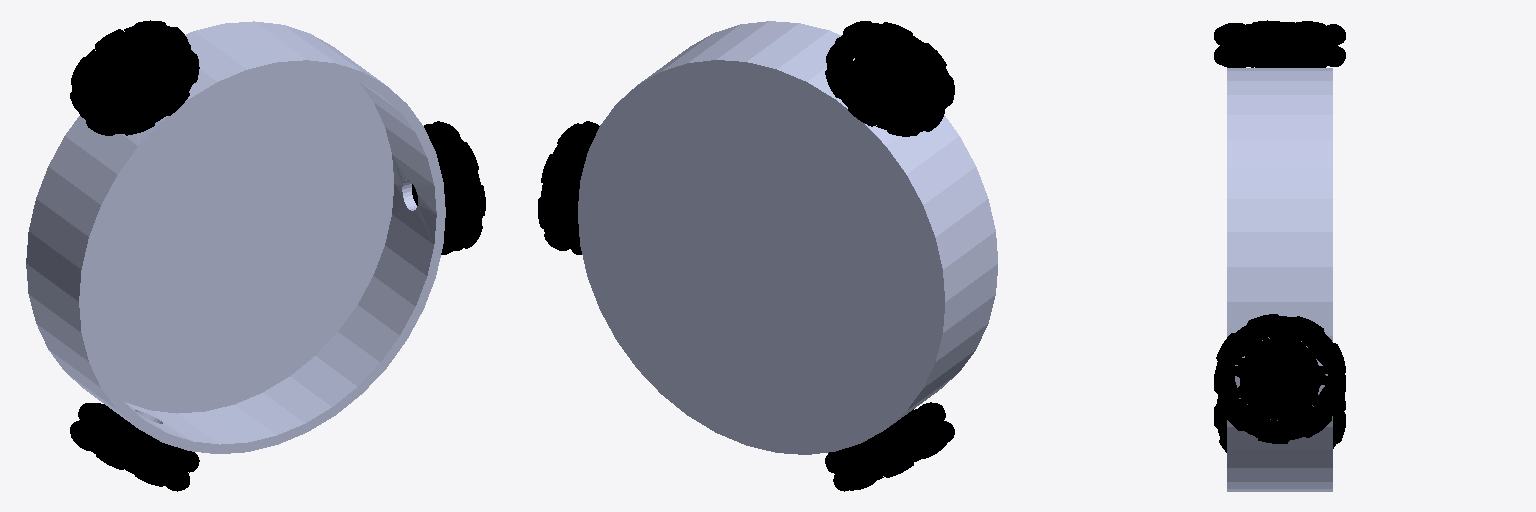
--- What the picture shows (computed from the rendered views, not written in the file) ---
The picture shows the robot from 3 angles, left to right: view 1: azimuth 30°, elevation 25°; view 2: azimuth 150°, elevation 25°; view 3: azimuth 270°, elevation 25°; orthographic projection.
Robot: robot_mobile — 52 links, 51 joints (51 continuous); root link base_link; default pose: every joint at zero.
Visible links, largest first — view 1: base_link, Roue3, Roue1, Roue2, roue3_roulette10, roue2_roulette2, roulette8, roulette16, roue2_roulette9, roue2_roulette10, roulette9, roue3_roulette11 (+6 smaller); view 2: base_link, Roue3, Roue1, Roue2, roulette14, roue2_roulette5, roue3_roulette13, roue2_roulette12, roue3_roulette14, roulette6, roulette5, roue3_roulette5 (+3 smaller); view 3: base_link, Roue2, Roue3, roue2_roulette15, roue2_roulette11, roue3_roulette16, roue3_roulette7, roue2_roulette10, roue2_roulette14, roue2_roulette12, roue2_roulette16, roue2_roulette9 (+3 smaller).
Boxes of the visible links, x1=… form: base_link: x1=26, y1=21, x2=445, y2=453; Roue3: x1=72, y1=25, x2=193, y2=133; Roue1: x1=74, y1=405, x2=194, y2=486; Roue2: x1=412, y1=125, x2=482, y2=248; roue3_roulette10: x1=131, y1=84, x2=165, y2=114; roue2_roulette2: x1=442, y1=166, x2=466, y2=201; roulette8: x1=123, y1=433, x2=158, y2=461; roulette16: x1=95, y1=441, x2=130, y2=469; roue2_roulette9: x1=465, y1=184, x2=485, y2=218; roue2_roulette10: x1=451, y1=142, x2=478, y2=176; roulette9: x1=134, y1=460, x2=168, y2=486; roue3_roulette11: x1=92, y1=102, x2=125, y2=122; base_link: x1=578, y1=21, x2=997, y2=454; Roue3: x1=827, y1=23, x2=949, y2=131; Roue1: x1=839, y1=409, x2=950, y2=488; Roue2: x1=541, y1=124, x2=595, y2=251; roulette14: x1=879, y1=449, x2=913, y2=477; roue2_roulette5: x1=555, y1=179, x2=577, y2=213; roue3_roulette13: x1=875, y1=94, x2=910, y2=120; roue2_roulette12: x1=541, y1=153, x2=566, y2=188; roue3_roulette14: x1=841, y1=67, x2=873, y2=100; roulette6: x1=890, y1=421, x2=923, y2=450; roulette5: x1=851, y1=441, x2=885, y2=467; roue3_roulette5: x1=848, y1=97, x2=881, y2=126; base_link: x1=1227, y1=68, x2=1332, y2=491; Roue2: x1=1218, y1=316, x2=1342, y2=439; Roue3: x1=1217, y1=22, x2=1342, y2=67; roue2_roulette15: x1=1256, y1=422, x2=1290, y2=443; roue2_roulette11: x1=1269, y1=322, x2=1303, y2=343; roue3_roulette16: x1=1250, y1=20, x2=1283, y2=41; roue3_roulette7: x1=1273, y1=41, x2=1306, y2=61; roue2_roulette10: x1=1228, y1=328, x2=1262, y2=358; roue2_roulette14: x1=1297, y1=407, x2=1331, y2=437; roue2_roulette12: x1=1307, y1=335, x2=1339, y2=367; roue2_roulette16: x1=1220, y1=398, x2=1252, y2=430; roue2_roulette9: x1=1214, y1=360, x2=1234, y2=394.
Size in the robot's own frame: 0.4426 by 0.1252 by 0.4715 metres.
52 mesh visuals loaded from 52 distinct referenced files (52 binary STL).

robot.urdf — robot_mobile:
<robot
  name="robot_mobile">
  <link
    name="base_link">
    <inertial>
      <origin
        xyz="-0.010055660308745 -0.0423870086324682 0.000121637856789193"
        rpy="0 0 0" />
      <mass
        value="3.47223567331962" />
      <inertia
        ixx="0.0457310176438819"
        ixy="1.86110118436277E-09"
        ixz="-1.71400748941766E-08"
        iyy="0.0867543372140893"
        iyz="1.24646135762742E-09"
        izz="0.0457310260272979" />
    </inertial>
    <visual>
      <origin
        xyz="0 0 0"
        rpy="0 0 0" />
      <geometry>
        <mesh
          filename="package://robot_mobile/meshes/base_link.STL" />
      </geometry>
      <material
        name="">
        <color
          rgba="0.792156862745098 0.819607843137255 0.933333333333333 1" />
      </material>
    </visual>
    <collision>
      <origin
        xyz="0 0 0"
        rpy="0 0 0" />
      <geometry>
        <mesh
          filename="package://robot_mobile/meshes/base_link.STL" />
      </geometry>
    </collision>
  </link>
  <link
    name="Roue1">
    <inertial>
      <origin
        xyz="-0.0211588380723036 -2.31343286816177E-06 9.24421394769837E-06"
        rpy="0 0 0" />
      <mass
        value="0.198356198512862" />
      <inertia
        ixx="0.00019991381116025"
        ixy="-1.5382727945235E-09"
        ixz="6.15222722511404E-09"
        iyy="0.000118333847746111"
        iyz="1.17428945784077E-08"
        izz="0.000118377952645097" />
    </inertial>
    <visual>
      <origin
        xyz="0 0 0"
        rpy="0 0 0" />
      <geometry>
        <mesh
          filename="package://robot_mobile/meshes/Roue1.STL" />
      </geometry>
      <material
        name="">
        <color
          rgba="0 0 0 1" />
      </material>
    </visual>
    <collision>
      <origin
        xyz="0 0 0"
        rpy="0 0 0" />
      <geometry>
        <mesh
          filename="package://robot_mobile/meshes/Roue1.STL" />
      </geometry>
    </collision>
  </link>
  <joint
    name="Joint_roue1"
    type="continuous">
    <origin
      xyz="-0.110055669635866 -0.0685169223077406 -0.17308341083394"
      rpy="1.5707963267949 -1.04719755119659 1.060540212046E-16" />
    <parent
      link="base_link" />
    <child
      link="Roue1" />
    <axis
      xyz="-1 0 0" />
  </joint>
  <link
    name="roulette1">
    <inertial>
      <origin
        xyz="-1.47206694750546E-10 -5.70271607713835E-12 1.70096714491308E-11"
        rpy="0 0 0" />
      <mass
        value="0.00837422821031397" />
      <inertia
        ixx="4.31411689246923E-07"
        ixy="5.89996911661104E-18"
        ixz="-1.75986513438699E-17"
        iyy="7.8023874637289E-07"
        iyz="-2.7266453793259E-18"
        izz="7.80238746365671E-07" />
    </inertial>
    <visual>
      <origin
        xyz="0 0 0"
        rpy="0 0 0" />
      <geometry>
        <mesh
          filename="package://robot_mobile/meshes/roulette1.STL" />
      </geometry>
      <material
        name="">
        <color
          rgba="0 0 0 1" />
      </material>
    </visual>
    <collision>
      <origin
        xyz="0 0 0"
        rpy="0 0 0" />
      <geometry>
        <mesh
          filename="package://robot_mobile/meshes/roulette1.STL" />
      </geometry>
    </collision>
  </link>
  <joint
    name="joint_roulette1"
    type="continuous">
    <origin
      xyz="-0.0118 -0.0127400040790379 0.0509534309000108"
      rpy="-0.139140116757764 0.245009073206653 -1.5707963267949" />
    <parent
      link="Roue1" />
    <child
      link="roulette1" />
    <axis
      xyz="-1 0 0" />
  </joint>
  <link
    name="roulette2">
    <inertial>
      <origin
        xyz="3.32048485929271E-10 1.07746866984115E-10 -1.76369953364119E-10"
        rpy="0 0 0" />
      <mass
        value="0.00837422821031395" />
      <inertia
        ixx="4.31411690438619E-07"
        ixy="2.51424697089265E-16"
        ixz="-4.11555614023201E-16"
        iyy="7.80238745994068E-07"
        iyz="-5.34184994250399E-16"
        izz="7.80238745446006E-07" />
    </inertial>
    <visual>
      <origin
        xyz="0 0 0"
        rpy="0 0 0" />
      <geometry>
        <mesh
          filename="package://robot_mobile/meshes/roulette2.STL" />
      </geometry>
      <material
        name="">
        <color
          rgba="0 0 0 1" />
      </material>
    </visual>
    <collision>
      <origin
        xyz="0 0 0"
        rpy="0 0 0" />
      <geometry>
        <mesh
          filename="package://robot_mobile/meshes/roulette2.STL" />
      </geometry>
    </collision>
  </link>
  <joint
    name="joint_roulette2"
    type="continuous">
    <origin
      xyz="-0.0118 -0.0450380597907498 0.0270209732374857"
      rpy="-0.459706120462856 1.03040723660411 -1.5707963267949" />
    <parent
      link="Roue1" />
    <child
      link="roulette2" />
    <axis
      xyz="-1 0 0" />
  </joint>
  <link
    name="roulette3">
    <inertial>
      <origin
        xyz="-1.37564876157015E-10 1.59586566184089E-10 -2.2592082371542E-10"
        rpy="0 0 0" />
      <mass
        value="0.00837422821031399" />
      <inertia
        ixx="4.31411691388528E-07"
        ixy="-1.5427816411387E-16"
        ixz="2.18407008698158E-16"
        iyy="7.80238747838095E-07"
        iyz="-1.01347958834279E-15"
        izz="7.80238747119254E-07" />
    </inertial>
    <visual>
      <origin
        xyz="0 0 0"
        rpy="0 0 0" />
      <geometry>
        <mesh
          filename="package://robot_mobile/meshes/roulette3.STL" />
      </geometry>
      <material
        name="">
        <color
          rgba="0 0 0 1" />
      </material>
    </visual>
    <collision>
      <origin
        xyz="0 0 0"
        rpy="0 0 0" />
      <geometry>
        <mesh
          filename="package://robot_mobile/meshes/roulette3.STL" />
      </geometry>
    </collision>
  </link>
  <joint
    name="joint_roulette3"
    type="continuous">
    <origin
      xyz="-0.0118 -0.0509534309000107 -0.0127400040790381"
      rpy="2.63102228985091 1.32578725358823 1.5707963267949" />
    <parent
      link="Roue1" />
    <child
      link="roulette3" />
    <axis
      xyz="-1 0 0" />
  </joint>
  <link
    name="roulette4">
    <inertial>
      <origin
        xyz="1.11800346758173E-10 -3.78778952647707E-11 -3.30497990086442E-11"
        rpy="0 0 0" />
      <mass
        value="0.00837422821031395" />
      <inertia
        ixx="4.31411689308909E-07"
        ixy="-2.97596324077754E-17"
        ixz="-2.59665361519094E-17"
        iyy="7.80238746524351E-07"
        iyz="3.51898646796717E-17"
        izz="7.80238746533977E-07" />
    </inertial>
    <visual>
      <origin
        xyz="0 0 0"
        rpy="0 0 0" />
      <geometry>
        <mesh
          filename="package://robot_mobile/meshes/roulette4.STL" />
      </geometry>
      <material
        name="">
        <color
          rgba="0 0 0 1" />
      </material>
    </visual>
    <collision>
      <origin
        xyz="0 0 0"
        rpy="0 0 0" />
      <geometry>
        <mesh
          filename="package://robot_mobile/meshes/roulette4.STL" />
      </geometry>
    </collision>
  </link>
  <joint
    name="joint_roulette4"
    type="continuous">
    <origin
      xyz="-0.0118 -0.0270209732374855 -0.0450380597907499"
      rpy="2.85286358035719 0.540389090190783 1.5707963267949" />
    <parent
      link="Roue1" />
    <child
      link="roulette4" />
    <axis
      xyz="-1 0 0" />
  </joint>
  <link
    name="roulette5">
    <inertial>
      <origin
        xyz="-3.75331536683898E-10 1.36487876556401E-10 -1.08739160037397E-10"
        rpy="0 0 0" />
      <mass
        value="0.00837422821031394" />
      <inertia
        ixx="4.31411690093916E-07"
        ixy="-3.60007156715981E-16"
        ixz="2.86815837973028E-16"
        iyy="7.80238745021713E-07"
        iyz="-4.17198282820013E-16"
        izz="7.80238745212995E-07" />
    </inertial>
    <visual>
      <origin
        xyz="0 0 0"
        rpy="0 0 0" />
      <geometry>
        <mesh
          filename="package://robot_mobile/meshes/roulette5.STL" />
      </geometry>
      <material
        name="">
        <color
          rgba="0 0 0 1" />
      </material>
    </visual>
    <collision>
      <origin
        xyz="0 0 0"
        rpy="0 0 0" />
      <geometry>
        <mesh
          filename="package://robot_mobile/meshes/roulette5.STL" />
      </geometry>
    </collision>
  </link>
  <joint
    name="joint_roulette5"
    type="continuous">
    <origin
      xyz="-0.0118 0.0127400040790376 -0.0509534309000109"
      rpy="-3.00245253683203 -0.245009073206653 1.5707963267949" />
    <parent
      link="Roue1" />
    <child
      link="roulette5" />
    <axis
      xyz="1 0 0" />
  </joint>
  <link
    name="roulette6">
    <inertial>
      <origin
        xyz="3.03796529599332E-10 -1.14578735388449E-10 -2.00423358465152E-10"
        rpy="0 0 0" />
      <mass
        value="0.00837422821031397" />
      <inertia
        ixx="4.31411690736083E-07"
        ixy="-2.44618059439138E-16"
        ixz="-4.278912929206E-16"
        iyy="7.80238746501321E-07"
        iyz="6.45528037649794E-16"
        izz="7.8023874574119E-07" />
    </inertial>
    <visual>
      <origin
        xyz="0 0 0"
        rpy="0 0 0" />
      <geometry>
        <mesh
          filename="package://robot_mobile/meshes/roulette6.STL" />
      </geometry>
      <material
        name="">
        <color
          rgba="0 0 0 1" />
      </material>
    </visual>
    <collision>
      <origin
        xyz="0 0 0"
        rpy="0 0 0" />
      <geometry>
        <mesh
          filename="package://robot_mobile/meshes/roulette6.STL" />
      </geometry>
    </collision>
  </link>
  <joint
    name="joint_roulette6"
    type="continuous">
    <origin
      xyz="-0.0118 0.0450380597907497 -0.027020973237486"
      rpy="-2.68188653312694 -1.0304072366041 1.5707963267949" />
    <parent
      link="Roue1" />
    <child
      link="roulette6" />
    <axis
      xyz="-1 0 0" />
  </joint>
  <link
    name="roulette7">
    <inertial>
      <origin
        xyz="-1.38960426498969E-10 -1.61623298078339E-10 -2.27978802502804E-10"
        rpy="0 0 0" />
      <mass
        value="0.00837422821031394" />
      <inertia
        ixx="4.31411691433173E-07"
        ixy="1.57832913239312E-16"
        ixz="2.22632326676418E-16"
        iyy="7.80238747858923E-07"
        iyz="1.03576425590708E-15"
        izz="7.80238747132215E-07" />
    </inertial>
    <visual>
      <origin
        xyz="0 0 0"
        rpy="0 0 0" />
      <geometry>
        <mesh
          filename="package://robot_mobile/meshes/roulette7.STL" />
      </geometry>
      <material
        name="">
        <color
          rgba="0 0 0 1" />
      </material>
    </visual>
    <collision>
      <origin
        xyz="0 0 0"
        rpy="0 0 0" />
      <geometry>
        <mesh
          filename="package://robot_mobile/meshes/roulette7.STL" />
      </geometry>
    </collision>
  </link>
  <joint
    name="joint_roulette7"
    type="continuous">
    <origin
      xyz="-0.0118 0.0509534309000109 0.0127400040790378"
      rpy="0.51057036373888 -1.32578725358824 -1.5707963267949" />
    <parent
      link="Roue1" />
    <child
      link="roulette7" />
    <axis
      xyz="-1 0 0" />
  </joint>
  <link
    name="roulette8">
    <inertial>
      <origin
        xyz="2.8647017397132E-10 1.69602110133837E-11 -3.61700669415654E-11"
        rpy="0 0 0" />
      <mass
        value="0.00837422821031397" />
      <inertia
        ixx="4.31411689282738E-07"
        ixy="3.41437061979187E-17"
        ixz="-7.28164578601368E-17"
        iyy="7.8023874555267E-07"
        iyz="-1.72441217333297E-17"
        izz="7.80238745523981E-07" />
    </inertial>
    <visual>
      <origin
        xyz="0 0 0"
        rpy="0 0 0" />
      <geometry>
        <mesh
          filename="package://robot_mobile/meshes/roulette8.STL" />
      </geometry>
      <material
        name="">
        <color
          rgba="0 0 0 1" />
      </material>
    </visual>
    <collision>
      <origin
        xyz="0 0 0"
        rpy="0 0 0" />
      <geometry>
        <mesh
          filename="package://robot_mobile/meshes/roulette8.STL" />
      </geometry>
    </collision>
  </link>
  <joint
    name="joint_roulette8"
    type="continuous">
    <origin
      xyz="-0.0118 0.0270209732374859 0.0450380597907497"
      rpy="0.288729073232605 -0.54038909019079 -1.5707963267949" />
    <parent
      link="Roue1" />
    <child
      link="roulette8" />
    <axis
      xyz="-1 0 0" />
  </joint>
  <link
    name="roulette9">
    <inertial>
      <origin
        xyz="-1.92264100473682E-10 4.72409888985226E-11 1.44477485530814E-11"
        rpy="0 0 0" />
      <mass
        value="0.00837422821031398" />
      <inertia
        ixx="4.31411689306476E-07"
        ixy="-6.38296694867499E-17"
        ixz="-1.95209396781043E-17"
        iyy="7.80238746155643E-07"
        iyz="1.91859116776856E-17"
        izz="7.80238746212509E-07" />
    </inertial>
    <visual>
      <origin
        xyz="0 0 0"
        rpy="0 0 0" />
      <geometry>
        <mesh
          filename="package://robot_mobile/meshes/roulette9.STL" />
      </geometry>
      <material
        name="">
        <color
          rgba="0 0 0 1" />
      </material>
    </visual>
    <collision>
      <origin
        xyz="0 0 0"
        rpy="0 0 0" />
      <geometry>
        <mesh
          filename="package://robot_mobile/meshes/roulette9.STL" />
      </geometry>
    </collision>
  </link>
  <joint
    name="joint_roulette9"
    type="continuous">
    <origin
      xyz="-0.0308 0.00777054372791233 0.051943993633419"
      rpy="3.05638145708313 0.148493497140428 1.5707963267949" />
    <parent
      link="Roue1" />
    <child
      link="roulette9" />
    <axis
      xyz="-1 0 0" />
  </joint>
  <link
    name="roulette10">
    <inertial>
      <origin
        xyz="2.9017245550822E-10 -1.64317448536622E-11 1.04113384580273E-11"
        rpy="0 0 0" />
      <mass
        value="0.00837422821031394" />
      <inertia
        ixx="4.31411689248511E-07"
        ixy="-3.35058506839668E-17"
        ixz="2.12328660563992E-17"
        iyy="7.80238745488932E-07"
        iyz="-4.80900308825669E-18"
        izz="7.80238745493475E-07" />
    </inertial>
    <visual>
      <origin
        xyz="0 0 0"
        rpy="0 0 0" />
      <geometry>
        <mesh
          filename="package://robot_mobile/meshes/roulette10.STL" />
      </geometry>
      <material
        name="">
        <color
          rgba="0 0 0 1" />
      </material>
    </visual>
    <collision>
      <origin
        xyz="0 0 0"
        rpy="0 0 0" />
      <geometry>
        <mesh
          filename="package://robot_mobile/meshes/roulette10.STL" />
      </geometry>
    </collision>
  </link>
  <joint
    name="joint_roulette10"
    type="continuous">
    <origin
      xyz="-0.0308 -0.0312353459765881 0.0422245543036148"
      rpy="-2.8108490896334 -0.636904666257029 1.5707963267949" />
    <parent
      link="Roue1" />
    <child
      link="roulette10" />
    <axis
      xyz="-1 0 0" />
  </joint>
  <link
    name="roulette11">
    <inertial>
      <origin
        xyz="-6.43508718534136E-11 1.17220705364574E-10 1.80744752498185E-10"
        rpy="0 0 0" />
      <mass
        value="0.00837422821031395" />
      <inertia
        ixx="4.31411690542447E-07"
        ixy="-5.30104254208324E-17"
        ixz="-8.17376967194723E-17"
        iyy="7.80238747529442E-07"
        iyz="5.95569531081332E-16"
        izz="7.80238746997375E-07" />
    </inertial>
    <visual>
      <origin
        xyz="0 0 0"
        rpy="0 0 0" />
      <geometry>
        <mesh
          filename="package://robot_mobile/meshes/roulette11.STL" />
      </geometry>
      <material
        name="">
        <color
          rgba="0 0 0 1" />
      </material>
    </visual>
    <collision>
      <origin
        xyz="0 0 0"
        rpy="0 0 0" />
      <geometry>
        <mesh
          filename="package://robot_mobile/meshes/roulette11.STL" />
      </geometry>
    </collision>
  </link>
  <joint
    name="joint_roulette11"
    type="continuous">
    <origin
      xyz="-0.0308 -0.0519439936334191 0.00777054372791215"
      rpy="-2.62277225620327 -1.42230282965447 1.5707963267949" />
    <parent
      link="Roue1" />
    <child
      link="roulette11" />
    <axis
      xyz="-1 0 0" />
  </joint>
  <link
    name="roulette12">
    <inertial>
      <origin
        xyz="2.65470458116202E-10 6.24885143629683E-11 1.11312292716548E-10"
        rpy="0 0 0" />
      <mass
        value="0.00837422821031396" />
      <inertia
        ixx="4.31411689695936E-07"
        ixy="1.16578812126724E-16"
        ixz="2.07664010418793E-16"
        iyy="7.80238746027096E-07"
        iyz="1.95526557680231E-16"
        izz="7.80238745788565E-07" />
    </inertial>
    <visual>
      <origin
        xyz="0 0 0"
        rpy="0 0 0" />
      <geometry>
        <mesh
          filename="package://robot_mobile/meshes/roulette12.STL" />
      </geometry>
      <material
        name="">
        <color
          rgba="0 0 0 1" />
      </material>
    </visual>
    <collision>
      <origin
        xyz="0 0 0"
        rpy="0 0 0" />
      <geometry>
        <mesh
          filename="package://robot_mobile/meshes/roulette12.STL" />
      </geometry>
    </collision>
  </link>
  <joint
    name="joint_roulette12"
    type="continuous">
    <origin
      xyz="-0.0308 -0.0422245543036147 -0.0312353459765883"
      rpy="0.434562860492647 -0.93389166053787 -1.5707963267949" />
    <parent
      link="Roue1" />
    <child
      link="roulette12" />
    <axis
      xyz="-1 0 0" />
  </joint>
  <link
    name="roulette13">
    <inertial>
      <origin
        xyz="-2.91913322507387E-10 -1.01919944706097E-10 1.08624928496504E-10"
        rpy="0 0 0" />
      <mass
        value="0.00837422821031396" />
      <inertia
        ixx="4.31411689861556E-07"
        ixy="2.09081591607146E-16"
        ixz="-2.22836064570012E-16"
        iyy="7.80238745803326E-07"
        iyz="-3.11208361915813E-16"
        izz="7.80238745763643E-07" />
    </inertial>
    <visual>
      <origin
        xyz="0 0 0"
        rpy="0 0 0" />
      <geometry>
        <mesh
          filename="package://robot_mobile/meshes/roulette13.STL" />
      </geometry>
      <material
        name="">
        <color
          rgba="0 0 0 1" />
      </material>
    </visual>
    <collision>
      <origin
        xyz="0 0 0"
        rpy="0 0 0" />
      <geometry>
        <mesh
          filename="package://robot_mobile/meshes/roulette13.STL" />
      </geometry>
    </collision>
  </link>
  <joint
    name="joint_roulette13"
    type="continuous">
    <origin
      xyz="-0.0308 -0.00777054372791196 -0.0519439936334191"
      rpy="0.0852111965066567 -0.148493497140421 -1.5707963267949" />
    <parent
      link="Roue1" />
    <child
      link="roulette13" />
    <axis
      xyz="-1 0 0" />
  </joint>
  <link
    name="roulette14">
    <inertial>
      <origin
        xyz="2.03977772172959E-10 8.6216644934467E-11 3.11255743401517E-11"
        rpy="0 0 0" />
      <mass
        value="0.00837422821031399" />
      <inertia
        ixx="4.31411689474061E-07"
        ixy="1.23586315699359E-16"
        ixz="4.46215633124585E-17"
        iyy="7.8023874611177E-07"
        iyz="7.54346102303203E-17"
        izz="7.80238746293488E-07" />
    </inertial>
    <visual>
      <origin
        xyz="0 0 0"
        rpy="0 0 0" />
      <geometry>
        <mesh
          filename="package://robot_mobile/meshes/roulette14.STL" />
      </geometry>
      <material
        name="">
        <color
          rgba="0 0 0 1" />
      </material>
    </visual>
    <collision>
      <origin
        xyz="0 0 0"
        rpy="0 0 0" />
      <geometry>
        <mesh
          filename="package://robot_mobile/meshes/roulette14.STL" />
      </geometry>
    </collision>
  </link>
  <joint
    name="joint_roulette14"
    type="continuous">
    <origin
      xyz="-0.0308 0.0312353459765878 -0.042224554303615"
      rpy="-0.330743563956394 0.636904666257029 -1.5707963267949" />
    <parent
      link="Roue1" />
    <child
      link="roulette14" />
    <axis
      xyz="-1 0 0" />
  </joint>
  <link
    name="roulette15">
    <inertial>
      <origin
        xyz="-6.45179742964075E-11 -1.1721446036006E-10 1.81391457410029E-10"
        rpy="0 0 0" />
      <mass
        value="0.00837422821031397" />
      <inertia
        ixx="4.31411690548991E-07"
        ixy="5.31451731426173E-17"
        ixz="-8.22434680332117E-17"
        iyy="7.80238747535725E-07"
        iyz="-5.9766892622934E-16"
        izz="7.80238746997033E-07" />
    </inertial>
    <visual>
      <origin
        xyz="0 0 0"
        rpy="0 0 0" />
      <geometry>
        <mesh
          filename="package://robot_mobile/meshes/roulette15.STL" />
      </geometry>
      <material
        name="">
        <color
          rgba="0 0 0 1" />
      </material>
    </visual>
    <collision>
      <origin
        xyz="0 0 0"
        rpy="0 0 0" />
      <geometry>
        <mesh
          filename="package://robot_mobile/meshes/roulette15.STL" />
      </geometry>
    </collision>
  </link>
  <joint
    name="joint_roulette15"
    type="continuous">
    <origin
      xyz="-0.0308 0.051943993633419 -0.0077705437279125"
      rpy="-0.518820397386522 1.42230282965447 -1.5707963267949" />
    <parent
      link="Roue1" />
    <child
      link="roulette15" />
    <axis
      xyz="-1 0 0" />
  </joint>
  <link
    name="roulette16">
    <inertial>
      <origin
        xyz="2.89257569285883E-10 -5.87843385080333E-11 1.00624952814599E-10"
        rpy="0 0 0" />
      <mass
        value="0.00837422821031394" />
      <inertia
        ixx="4.31411689619636E-07"
        ixy="-1.19494577463859E-16"
        ixz="2.04546942407787E-16"
        iyy="7.80238745777962E-07"
        iyz="-1.66276107879041E-16"
        izz="7.80238745590473E-07" />
    </inertial>
    <visual>
      <origin
        xyz="0 0 0"
        rpy="0 0 0" />
      <geometry>
        <mesh
          filename="package://robot_mobile/meshes/roulette16.STL" />
      </geometry>
      <material
        name="">
        <color
          rgba="0 0 0 1" />
      </material>
    </visual>
    <collision>
      <origin
        xyz="0 0 0"
        rpy="0 0 0" />
      <geometry>
        <mesh
          filename="package://robot_mobile/meshes/roulette16.STL" />
      </geometry>
    </collision>
  </link>
  <joint
    name="joint_roulette16"
    type="continuous">
    <origin
      xyz="-0.0308 0.042224554303615 0.031235345976588"
      rpy="2.70702979309714 0.933891660537878 1.5707963267949" />
    <parent
      link="Roue1" />
    <child
      link="roulette16" />
    <axis
      xyz="-1 0 0" />
  </joint>
  <link
    name="Roue2">
    <inertial>
      <origin
        xyz="0.021158838082035 -9.16243809341669E-06 -2.61859768342643E-06"
        rpy="0 0 0" />
      <mass
        value="0.198356218737252" />
      <inertia
        ixx="0.000199913841811185"
        ixy="6.09717706545227E-09"
        ixz="1.74443612152099E-09"
        iyy="0.000118377070384654"
        iyz="-1.32265268673335E-08"
        izz="0.000118334678832408" />
    </inertial>
    <visual>
      <origin
        xyz="0 0 0"
        rpy="0 0 0" />
      <geometry>
        <mesh
          filename="package://robot_mobile/meshes/Roue2.STL" />
      </geometry>
      <material
        name="">
        <color
          rgba="0 0 0 1" />
      </material>
    </visual>
    <collision>
      <origin
        xyz="0 0 0"
        rpy="0 0 0" />
      <geometry>
        <mesh
          filename="package://robot_mobile/meshes/Roue2.STL" />
      </geometry>
    </collision>
  </link>
  <joint
    name="Joint_roue2"
    type="continuous">
    <origin
      xyz="0.189944330364135 -0.0685169223077405 0.000121669922947528"
      rpy="1.5707963267949 0 0" />
    <parent
      link="base_link" />
    <child
      link="Roue2" />
    <axis
      xyz="-1 0 0" />
  </joint>
  <link
    name="roue2_roulette1">
    <inertial>
      <origin
        xyz="-1.29762894873764E-10 2.26836022187982E-10 0"
        rpy="0 0 0" />
      <mass
        value="0.00837422821031394" />
      <inertia
        ixx="4.31411690684267E-07"
        ixy="-2.06854604263242E-16"
        ixz="-2.48340369420391E-22"
        iyy="7.80238746432658E-07"
        iyz="2.88095088253132E-23"
        izz="7.80238747879052E-07" />
    </inertial>
    <visual>
      <origin
        xyz="0 0 0"
        rpy="0 0 0" />
      <geometry>
        <mesh
          filename="package://robot_mobile/meshes/roue2_roulette1.STL" />
      </geometry>
      <material
        name="">
        <color
          rgba="0 0 0 1" />
      </material>
    </visual>
    <collision>
      <origin
        xyz="0 0 0"
        rpy="0 0 0" />
      <geometry>
        <mesh
          filename="package://robot_mobile/meshes/roue2_roulette1.STL" />
      </geometry>
    </collision>
  </link>
  <joint
    name="joint_roue2_roulette1"
    type="continuous">
    <origin
      xyz="0.0118 -0.0144435482732412 0.0504969676089033"
      rpy="-1.5707963267949 0.27858970239164 -1.5707963267949" />
    <parent
      link="Roue2" />
    <child
      link="roue2_roulette1" />
    <axis
      xyz="-1 0 0" />
  </joint>
  <link
    name="roue2_roulette2">
    <inertial>
      <origin
        xyz="2.17557707959948E-10 -1.95935809244041E-10 0"
        rpy="0 0 0" />
      <mass
        value="0.00837422821031393" />
      <inertia
        ixx="4.31411690317044E-07"
        ixy="-2.99564530862153E-16"
        ixz="2.5401701632074E-23"
        iyy="7.80238746004077E-07"
        iyz="8.68415612779801E-25"
        izz="7.80238747083247E-07" />
    </inertial>
    <visual>
      <origin
        xyz="0 0 0"
        rpy="0 0 0" />
      <geometry>
        <mesh
          filename="package://robot_mobile/meshes/roue2_roulette2.STL" />
      </geometry>
      <material
        name="">
        <color
          rgba="0 0 0 1" />
      </material>
    </visual>
    <collision>
      <origin
        xyz="0 0 0"
        rpy="0 0 0" />
      <geometry>
        <mesh
          filename="package://robot_mobile/meshes/roue2_roulette2.STL" />
      </geometry>
    </collision>
  </link>
  <joint
    name="joint_roue2_roulette2"
    type="continuous">
    <origin
      xyz="0.0118 0.0254936172972089 0.045919879154017"
      rpy="1.5707963267949 -0.50680846100581 -1.5707963267949" />
    <parent
      link="Roue2" />
    <child
      link="roue2_roulette2" />
    <axis
      xyz="-1 0 0" />
  </joint>
  <link
    name="roue2_roulette3">
    <inertial>
      <origin
        xyz="1.29762908751552E-10 -2.26835994432406E-10 -2.77555756156289E-17"
        rpy="0 0 0" />
      <mass
        value="0.00837422821031398" />
      <inertia
        ixx="4.3141169068427E-07"
        ixy="-2.06854538088793E-16"
        ixz="2.85205064071251E-22"
        iyy="7.80238746432661E-07"
        iyz="-3.15379841775227E-23"
        izz="7.80238747879055E-07" />
    </inertial>
    <visual>
      <origin
        xyz="0 0 0"
        rpy="0 0 0" />
      <geometry>
        <mesh
          filename="package://robot_mobile/meshes/roue2_roulette3.STL" />
      </geometry>
      <material
        name="">
        <color
          rgba="0 0 0 1" />
      </material>
    </visual>
    <collision>
      <origin
        xyz="0 0 0"
        rpy="0 0 0" />
      <geometry>
        <mesh
          filename="package://robot_mobile/meshes/roue2_roulette3.STL" />
      </geometry>
    </collision>
  </link>
  <joint
    name="joint_roue2_roulette3"
    type="continuous">
    <origin
      xyz="0.0118 0.0504969676089031 0.0144435482732418"
      rpy="1.5707963267949 1.29220662440325 1.5707963267949" />
    <parent
      link="Roue2" />
    <child
      link="roue2_roulette3" />
    <axis
      xyz="-1 0 0" />
  </joint>
  <link
    name="roue2_roulette4">
    <inertial>
      <origin
        xyz="-2.17557728776629E-10 -1.959357988357E-10 0"
        rpy="0 0 0" />
      <mass
        value="0.00837422821031394" />
      <inertia
        ixx="4.31411690317045E-07"
        ixy="2.99564663211051E-16"
        ixz="-1.37154858030964E-22"
        iyy="7.80238746004078E-07"
        iyz="-1.55724174227028E-23"
        izz="7.80238747083248E-07" />
    </inertial>
    <visual>
      <origin
        xyz="0 0 0"
        rpy="0 0 0" />
      <geometry>
        <mesh
          filename="package://robot_mobile/meshes/roue2_roulette4.STL" />
      </geometry>
      <material
        name="">
        <color
          rgba="0 0 0 1" />
      </material>
    </visual>
    <collision>
      <origin
        xyz="0 0 0"
        rpy="0 0 0" />
      <geometry>
        <mesh
          filename="package://robot_mobile/meshes/roue2_roulette4.STL" />
      </geometry>
    </collision>
  </link>
  <joint
    name="joint_roue2_roulette4"
    type="continuous">
    <origin
      xyz="0.0118 0.0459198791540173 -0.0254936172972084"
      rpy="-1.5707963267949 1.0639878657891 -1.5707963267949" />
    <parent
      link="Roue2" />
    <child
      link="roue2_roulette4" />
    <axis
      xyz="-1 0 0" />
  </joint>
  <link
    name="roue2_roulette5">
    <inertial>
      <origin
        xyz="1.29762891404317E-10 -2.26835994432406E-10 2.77555756156289E-17"
        rpy="0 0 0" />
      <mass
        value="0.00837422821031396" />
      <inertia
        ixx="4.31411690684269E-07"
        ixy="-2.0685443882712E-16"
        ixz="5.09695780809695E-23"
        iyy="7.8023874643266E-07"
        iyz="-3.14959262968551E-23"
        izz="7.80238747879053E-07" />
    </inertial>
    <visual>
      <origin
        xyz="0 0 0"
        rpy="0 0 0" />
      <geometry>
        <mesh
          filename="package://robot_mobile/meshes/roue2_roulette5.STL" />
      </geometry>
      <material
        name="">
        <color
          rgba="0 0 0 1" />
      </material>
    </visual>
    <collision>
      <origin
        xyz="0 0 0"
        rpy="0 0 0" />
      <geometry>
        <mesh
          filename="package://robot_mobile/meshes/roue2_roulette5.STL" />
      </geometry>
    </collision>
  </link>
  <joint
    name="joint_roue2_roulette5"
    type="continuous">
    <origin
      xyz="0.0118 0.0144435482732416 -0.0504969676089032"
      rpy="-1.5707963267949 0.278589702391647 -1.5707963267949" />
    <parent
      link="Roue2" />
    <child
      link="roue2_roulette5" />
    <axis
      xyz="-1 0 0" />
  </joint>
  <link
    name="roue2_roulette6">
    <inertial>
      <origin
        xyz="-2.17557728776629E-10 1.95935800570424E-10 2.77555756156289E-17"
        rpy="0 0 0" />
      <mass
        value="0.00837422821031394" />
      <inertia
        ixx="4.31411690317045E-07"
        ixy="-2.99564451452814E-16"
        ixz="-9.73799006102537E-23"
        iyy="7.80238746004078E-07"
        iyz="-2.92717491362247E-23"
        izz="7.80238747083248E-07" />
    </inertial>
    <visual>
      <origin
        xyz="0 0 0"
        rpy="0 0 0" />
      <geometry>
        <mesh
          filename="package://robot_mobile/meshes/roue2_roulette6.STL" />
      </geometry>
      <material
        name="">
        <color
          rgba="0 0 0 1" />
      </material>
    </visual>
    <collision>
      <origin
        xyz="0 0 0"
        rpy="0 0 0" />
      <geometry>
        <mesh
          filename="package://robot_mobile/meshes/roue2_roulette6.STL" />
      </geometry>
    </collision>
  </link>
  <joint
    name="joint_roue2_roulette6"
    type="continuous">
    <origin
      xyz="0.0118 -0.0254936172972086 -0.0459198791540172"
      rpy="1.5707963267949 -0.506808461005803 -1.5707963267949" />
    <parent
      link="Roue2" />
    <child
      link="roue2_roulette6" />
    <axis
      xyz="-1 0 0" />
  </joint>
  <link
    name="roue2_roulette7">
    <inertial>
      <origin
        xyz="-1.29762894873764E-10 2.26835994432406E-10 0"
        rpy="0 0 0" />
      <mass
        value="0.00837422821031398" />
      <inertia
        ixx="4.3141169068427E-07"
        ixy="-2.06854505001569E-16"
        ixz="-2.523830170733E-22"
        iyy="7.80238746432661E-07"
        iyz="3.86227974342537E-23"
        izz="7.80238747879054E-07" />
    </inertial>
    <visual>
      <origin
        xyz="0 0 0"
        rpy="0 0 0" />
      <geometry>
        <mesh
          filename="package://robot_mobile/meshes/roue2_roulette7.STL" />
      </geometry>
      <material
        name="">
        <color
          rgba="0 0 0 1" />
      </material>
    </visual>
    <collision>
      <origin
        xyz="0 0 0"
        rpy="0 0 0" />
      <geometry>
        <mesh
          filename="package://robot_mobile/meshes/roue2_roulette7.STL" />
      </geometry>
    </collision>
  </link>
  <joint
    name="joint_roue2_roulette7"
    type="continuous">
    <origin
      xyz="0.0118 -0.0504969676089032 -0.0144435482732414"
      rpy="1.5707963267949 1.29220662440325 1.5707963267949" />
    <parent
      link="Roue2" />
    <child
      link="roue2_roulette7" />
    <axis
      xyz="-1 0 0" />
  </joint>
  <link
    name="roue2_roulette8">
    <inertial>
      <origin
        xyz="2.17557707959948E-10 1.95935795366253E-10 0"
        rpy="0 0 0" />
      <mass
        value="0.00837422821031396" />
      <inertia
        ixx="4.31411690317046E-07"
        ixy="2.99564835264618E-16"
        ixz="4.72303070127006E-22"
        iyy="7.8023874600408E-07"
        iyz="1.89702513301762E-23"
        izz="7.8023874708325E-07" />
    </inertial>
    <visual>
      <origin
        xyz="0 0 0"
        rpy="0 0 0" />
      <geometry>
        <mesh
          filename="package://robot_mobile/meshes/roue2_roulette8.STL" />
      </geometry>
      <material
        name="">
        <color
          rgba="0 0 0 1" />
      </material>
    </visual>
    <collision>
      <origin
        xyz="0 0 0"
        rpy="0 0 0" />
      <geometry>
        <mesh
          filename="package://robot_mobile/meshes/roue2_roulette8.STL" />
      </geometry>
    </collision>
  </link>
  <joint
    name="joint_roue2_roulette8"
    type="continuous">
    <origin
      xyz="0.0118 -0.0459198791540171 0.0254936172972087"
      rpy="-1.5707963267949 1.06398786578909 -1.5707963267949" />
    <parent
      link="Roue2" />
    <child
      link="roue2_roulette8" />
    <axis
      xyz="-1 0 0" />
  </joint>
  <link
    name="roue2_roulette9">
    <inertial>
      <origin
        xyz="3.70512613645513E-11 -1.62800731229318E-10 0"
        rpy="0 0 0" />
      <mass
        value="0.00837422821031397" />
      <inertia
        ixx="4.31411689982908E-07"
        ixy="-4.23897870063986E-17"
        ixz="-1.23372176297159E-22"
        iyy="7.80238746650032E-07"
        iyz="-1.0154660879658E-23"
        izz="7.80238747395064E-07" />
    </inertial>
    <visual>
      <origin
        xyz="0 0 0"
        rpy="0 0 0" />
      <geometry>
        <mesh
          filename="package://robot_mobile/meshes/roue2_roulette9.STL" />
      </geometry>
      <material
        name="">
        <color
          rgba="0 0 0 1" />
      </material>
    </visual>
    <collision>
      <origin
        xyz="0 0 0"
        rpy="0 0 0" />
      <geometry>
        <mesh
          filename="package://robot_mobile/meshes/roue2_roulette9.STL" />
      </geometry>
    </collision>
  </link>
  <joint
    name="joint_roue2_roulette9"
    type="continuous">
    <origin
      xyz="0.0308 0.00593832595991392 0.0521852096787001"
      rpy="1.5707963267949 -0.113305890658723 -1.5707963267949" />
    <parent
      link="Roue2" />
    <child
      link="roue2_roulette9" />
    <axis
      xyz="-1 0 0" />
  </joint>
  <link
    name="roue2_roulette10">
    <inertial>
      <origin
        xyz="-1.58598786881292E-10 -9.96642490758148E-11 0"
        rpy="0 0 0" />
      <mass
        value="0.00837422821031397" />
      <inertia
        ixx="4.31411689517092E-07"
        ixy="1.11081330071027E-16"
        ixz="2.95098417723851E-23"
        iyy="7.80238746315791E-07"
        iyz="-1.69175575136229E-23"
        izz="7.80238746595008E-07" />
    </inertial>
    <visual>
      <origin
        xyz="0 0 0"
        rpy="0 0 0" />
      <geometry>
        <mesh
          filename="package://robot_mobile/meshes/roue2_roulette10.STL" />
      </geometry>
      <material
        name="">
        <color
          rgba="0 0 0 1" />
      </material>
    </visual>
    <collision>
      <origin
        xyz="0 0 0"
        rpy="0 0 0" />
      <geometry>
        <mesh
          filename="package://robot_mobile/meshes/roue2_roulette10.STL" />
      </geometry>
    </collision>
  </link>
  <joint
    name="joint_roue2_roulette10"
    type="continuous">
    <origin
      xyz="0.0308 0.041099546196602 0.0327014850862993"
      rpy="1.5707963267949 -0.898704054056173 -1.5707963267949" />
    <parent
      link="Roue2" />
    <child
      link="roue2_roulette10" />
    <axis
      xyz="-1 0 0" />
  </joint>
  <link
    name="roue2_roulette11">
    <inertial>
      <origin
        xyz="3.70512509562104E-11 -1.62800724290424E-10 -2.77555756156289E-17"
        rpy="0 0 0" />
      <mass
        value="0.00837422821031399" />
      <inertia
        ixx="4.31411689982909E-07"
        ixy="-4.23945879626739E-17"
        ixz="-1.89413590774353E-22"
        iyy="7.80238746650033E-07"
        iyz="-5.47884555783961E-24"
        izz="7.80238747395065E-07" />
    </inertial>
    <visual>
      <origin
        xyz="0 0 0"
        rpy="0 0 0" />
      <geometry>
        <mesh
          filename="package://robot_mobile/meshes/roue2_roulette11.STL" />
      </geometry>
      <material
        name="">
        <color
          rgba="0 0 0 1" />
      </material>
    </visual>
    <collision>
      <origin
        xyz="0 0 0"
        rpy="0 0 0" />
      <geometry>
        <mesh
          filename="package://robot_mobile/meshes/roue2_roulette11.STL" />
      </geometry>
    </collision>
  </link>
  <joint
    name="joint_roue2_roulette11"
    type="continuous">
    <origin
      xyz="0.0308 0.0521852096787001 -0.00593832595991337"
      rpy="-1.5707963267949 -1.45749043613617 1.5707963267949" />
    <parent
      link="Roue2" />
    <child
      link="roue2_roulette11" />
    <axis
      xyz="-1 0 0" />
  </joint>
  <link
    name="roue2_roulette12">
    <inertial>
      <origin
        xyz="-1.5859876606461E-10 -9.96642456063679E-11 2.77555756156289E-17"
        rpy="0 0 0" />
      <mass
        value="0.00837422821031398" />
      <inertia
        ixx="4.31411689517092E-07"
        ixy="1.11081449185036E-16"
        ixz="4.0319349688928E-23"
        iyy="7.80238746315792E-07"
        iyz="7.06604663335077E-25"
        izz="7.80238746595009E-07" />
    </inertial>
    <visual>
      <origin
        xyz="0 0 0"
        rpy="0 0 0" />
      <geometry>
        <mesh
          filename="package://robot_mobile/meshes/roue2_roulette12.STL" />
      </geometry>
      <material
        name="">
        <color
          rgba="0 0 0 1" />
      </material>
    </visual>
    <collision>
      <origin
        xyz="0 0 0"
        rpy="0 0 0" />
      <geometry>
        <mesh
          filename="package://robot_mobile/meshes/roue2_roulette12.STL" />
      </geometry>
    </collision>
  </link>
  <joint
    name="joint_roue2_roulette12"
    type="continuous">
    <origin
      xyz="0.0308 0.0327014850862998 -0.0410995461966016"
      rpy="-1.5707963267949 -0.672092272738735 1.5707963267949" />
    <parent
      link="Roue2" />
    <child
      link="roue2_roulette12" />
    <axis
      xyz="-1 0 0" />
  </joint>
  <link
    name="roue2_roulette13">
    <inertial>
      <origin
        xyz="3.70512630992748E-11 1.62800729494594E-10 0"
        rpy="0 0 0" />
      <mass
        value="0.00837422821031396" />
      <inertia
        ixx="4.31411689982908E-07"
        ixy="4.23898597982925E-17"
        ixz="4.77325468799067E-23"
        iyy="7.80238746650031E-07"
        iyz="1.31895925753372E-24"
        izz="7.80238747395064E-07" />
    </inertial>
    <visual>
      <origin
        xyz="0 0 0"
        rpy="0 0 0" />
      <geometry>
        <mesh
          filename="package://robot_mobile/meshes/roue2_roulette13.STL" />
      </geometry>
      <material
        name="">
        <color
          rgba="0 0 0 1" />
      </material>
    </visual>
    <collision>
      <origin
        xyz="0 0 0"
        rpy="0 0 0" />
      <geometry>
        <mesh
          filename="package://robot_mobile/meshes/roue2_roulette13.STL" />
      </geometry>
    </collision>
  </link>
  <joint
    name="joint_roue2_roulette13"
    type="continuous">
    <origin
      xyz="0.0308 -0.00593832595991355 -0.0521852096787001"
      rpy="1.5707963267949 0.113305890658716 1.5707963267949" />
    <parent
      link="Roue2" />
    <child
      link="roue2_roulette13" />
    <axis
      xyz="-1 0 0" />
  </joint>
  <link
    name="roue2_roulette14">
    <inertial>
      <origin
        xyz="-1.58598786881292E-10 9.9664235198027E-11 0"
        rpy="0 0 0" />
      <mass
        value="0.00837422821031397" />
      <inertia
        ixx="4.31411689517092E-07"
        ixy="-1.11081290366358E-16"
        ixz="-1.36741180442771E-22"
        iyy="7.80238746315791E-07"
        iyz="-1.93125675078491E-24"
        izz="7.80238746595007E-07" />
    </inertial>
    <visual>
      <origin
        xyz="0 0 0"
        rpy="0 0 0" />
      <geometry>
        <mesh
          filename="package://robot_mobile/meshes/roue2_roulette14.STL" />
      </geometry>
      <material
        name="">
        <color
          rgba="0 0 0 1" />
      </material>
    </visual>
    <collision>
      <origin
        xyz="0 0 0"
        rpy="0 0 0" />
      <geometry>
        <mesh
          filename="package://robot_mobile/meshes/roue2_roulette14.STL" />
      </geometry>
    </collision>
  </link>
  <joint
    name="joint_roue2_roulette14"
    type="continuous">
    <origin
      xyz="0.0308 -0.0410995461966017 -0.0327014850862996"
      rpy="1.5707963267949 0.898704054056166 1.5707963267949" />
    <parent
      link="Roue2" />
    <child
      link="roue2_roulette14" />
    <axis
      xyz="-1 0 0" />
  </joint>
  <link
    name="roue2_roulette15">
    <inertial>
      <origin
        xyz="3.70512509562104E-11 1.62800731229318E-10 2.77555756156289E-17"
        rpy="0 0 0" />
      <mass
        value="0.00837422821031396" />
      <inertia
        ixx="4.31411689982908E-07"
        ixy="4.23898730331823E-17"
        ixz="-1.55846600679212E-22"
        iyy="7.80238746650032E-07"
        iyz="-1.65385652002641E-23"
        izz="7.80238747395065E-07" />
    </inertial>
    <visual>
      <origin
        xyz="0 0 0"
        rpy="0 0 0" />
      <geometry>
        <mesh
          filename="package://robot_mobile/meshes/roue2_roulette15.STL" />
      </geometry>
      <material
        name="">
        <color
          rgba="0 0 0 1" />
      </material>
    </visual>
    <collision>
      <origin
        xyz="0 0 0"
        rpy="0 0 0" />
      <geometry>
        <mesh
          filename="package://robot_mobile/meshes/roue2_roulette15.STL" />
      </geometry>
    </collision>
  </link>
  <joint
    name="joint_roue2_roulette15"
    type="continuous">
    <origin
      xyz="0.0308 -0.0521852096787001 0.00593832595991373"
      rpy="-1.5707963267949 1.45749043613618 -1.5707963267949" />
    <parent
      link="Roue2" />
    <child
      link="roue2_roulette15" />
    <axis
      xyz="-1 0 0" />
  </joint>
  <link
    name="roue2_roulette16">
    <inertial>
      <origin
        xyz="-1.58598786881292E-10 9.96642629536026E-11 0"
        rpy="0 0 0" />
      <mass
        value="0.00837422821031397" />
      <inertia
        ixx="4.31411689517092E-07"
        ixy="-1.11081608003713E-16"
        ixz="3.42759913567263E-24"
        iyy="7.80238746315791E-07"
        iyz="-4.91257793823626E-24"
        izz="7.80238746595008E-07" />
    </inertial>
    <visual>
      <origin
        xyz="0 0 0"
        rpy="0 0 0" />
      <geometry>
        <mesh
          filename="package://robot_mobile/meshes/roue2_roulette16.STL" />
      </geometry>
      <material
        name="">
        <color
          rgba="0 0 0 1" />
      </material>
    </visual>
    <collision>
      <origin
        xyz="0 0 0"
        rpy="0 0 0" />
      <geometry>
        <mesh
          filename="package://robot_mobile/meshes/roue2_roulette16.STL" />
      </geometry>
    </collision>
  </link>
  <joint
    name="joint_roue2_roulette16"
    type="continuous">
    <origin
      xyz="0.0308 -0.0327014850862995 0.0410995461966018"
      rpy="-1.5707963267949 0.672092272738728 -1.5707963267949" />
    <parent
      link="Roue2" />
    <child
      link="roue2_roulette16" />
    <axis
      xyz="-1 0 0" />
  </joint>
  <link
    name="Roue3">
    <inertial>
      <origin
        xyz="0.0210347619332206 2.07332838350616E-06 9.30105326420183E-06"
        rpy="0 0 0" />
      <mass
        value="0.198356197932139" />
      <inertia
        ixx="0.000199913810608803"
        ixy="1.3816665892519E-09"
        ixz="6.1895862040386E-09"
        iyy="0.000118333295278069"
        iyz="-1.06371069341303E-08"
        izz="0.00011837850775697" />
    </inertial>
    <visual>
      <origin
        xyz="0 0 0"
        rpy="0 0 0" />
      <geometry>
        <mesh
          filename="package://robot_mobile/meshes/Roue3.STL" />
      </geometry>
      <material
        name="">
        <color
          rgba="0 0 0 1" />
      </material>
    </visual>
    <collision>
      <origin
        xyz="0 0 0"
        rpy="0 0 0" />
      <geometry>
        <mesh
          filename="package://robot_mobile/meshes/Roue3.STL" />
      </geometry>
    </collision>
  </link>
  <joint
    name="Joint_roue3"
    type="continuous">
    <origin
      xyz="-0.110258869635864 -0.0685169223077405 0.173678703403934"
      rpy="1.5707963267949 -1.04719755119661 3.14159265358979" />
    <parent
      link="base_link" />
    <child
      link="Roue3" />
    <axis
      xyz="-1 0 0" />
  </joint>
  <link
    name="roue3_roulette1">
    <inertial>
      <origin
        xyz="2.1680098341581E-10 5.13996900597391E-11 3.05013375667684E-11"
        rpy="0 0 0" />
      <mass
        value="0.00837422821031396" />
      <inertia
        ixx="4.31411689338292E-07"
        ixy="7.83109409725228E-17"
        ixz="4.64758706352309E-17"
        iyy="7.8023874603485E-07"
        iyz="4.40698603136653E-17"
        izz="7.80238746082964E-07" />
    </inertial>
    <visual>
      <origin
        xyz="0 0 0"
        rpy="0 0 0" />
      <geometry>
        <mesh
          filename="package://robot_mobile/meshes/roue3_roulette1.STL" />
      </geometry>
      <material
        name="">
        <color
          rgba="0 0 0 1" />
      </material>
    </visual>
    <collision>
      <origin
        xyz="0 0 0"
        rpy="0 0 0" />
      <geometry>
        <mesh
          filename="package://robot_mobile/meshes/roue3_roulette1.STL" />
      </geometry>
    </collision>
  </link>
  <joint
    name="joint_roue3_roulette1"
    type="continuous">
    <origin
      xyz="0.0113936 0.00900757829178358 -0.0517438243439105"
      rpy="-0.0986944893951291 0.172353115413479 -1.5707963267949" />
    <parent
      link="Roue3" />
    <child
      link="roue3_roulette1" />
    <axis
      xyz="-1 0 0" />
  </joint>
  <link
    name="roue3_roulette2">
    <inertial>
      <origin
        xyz="-3.2285656093034E-10 -2.31279162488107E-11 2.59914867406508E-11"
        rpy="0 0 0" />
      <mass
        value="0.00837422821031394" />
      <inertia
        ixx="4.31411689271901E-07"
        ixy="5.24751204505024E-17"
        ixz="-5.89716513977061E-17"
        iyy="7.80238745223264E-07"
        iyz="-1.68977779021313E-17"
        izz="7.8023874521931E-07" />
    </inertial>
    <visual>
      <origin
        xyz="0 0 0"
        rpy="0 0 0" />
      <geometry>
        <mesh
          filename="package://robot_mobile/meshes/roue3_roulette2.STL" />
      </geometry>
      <material
        name="">
        <color
          rgba="0 0 0 1" />
      </material>
    </visual>
    <collision>
      <origin
        xyz="0 0 0"
        rpy="0 0 0" />
      <geometry>
        <mesh
          filename="package://robot_mobile/meshes/roue3_roulette2.STL" />
      </geometry>
    </collision>
  </link>
  <joint
    name="joint_roue3_roulette2"
    type="continuous">
    <origin
      xyz="0.0113936 -0.0302190893859152 -0.042957728770294"
      rpy="0.320716371212577 -0.613045047983971 -1.5707963267949" />
    <parent
      link="Roue3" />
    <child
      link="roue3_roulette2" />
    <axis
      xyz="-1 0 0" />
  </joint>
  <link
    name="roue3_roulette3">
    <inertial>
      <origin
        xyz="8.26523988139982E-11 1.33796917989315E-10 1.97010130431607E-10"
        rpy="0 0 0" />
      <mass
        value="0.00837422821031397" />
      <inertia
        ixx="4.31411690832129E-07"
        ixy="7.77144821259165E-17"
        ixz="1.14431709336888E-16"
        iyy="7.80238747664347E-07"
        iyz="7.40964039700588E-16"
        izz="7.80238747076526E-07" />
    </inertial>
    <visual>
      <origin
        xyz="0 0 0"
        rpy="0 0 0" />
      <geometry>
        <mesh
          filename="package://robot_mobile/meshes/roue3_roulette3.STL" />
      </geometry>
      <material
        name="">
        <color
          rgba="0 0 0 1" />
      </material>
    </visual>
    <collision>
      <origin
        xyz="0 0 0"
        rpy="0 0 0" />
      <geometry>
        <mesh
          filename="package://robot_mobile/meshes/roue3_roulette3.STL" />
      </geometry>
    </collision>
  </link>
  <joint
    name="joint_roue3_roulette3"
    type="continuous">
    <origin
      xyz="0.0113936 -0.0517438243439104 -0.00900757829178414"
      rpy="0.517159467772312 -1.39844321138142 -1.5707963267949" />
    <parent
      link="Roue3" />
    <child
      link="roue3_roulette3" />
    <axis
      xyz="-1 0 0" />
  </joint>
  <link
    name="roue3_roulette4">
    <inertial>
      <origin
        xyz="-2.71242146798745E-10 7.57188756139726E-11 1.31179220264066E-10"
        rpy="0 0 0" />
      <mass
        value="0.00837422821031396" />
      <inertia
        ixx="4.31411689882758E-07"
        ixy="-1.44332078254083E-16"
        ixz="-2.500487582409E-16"
        iyy="7.8023874611898E-07"
        iyz="2.79210421783861E-16"
        izz="7.80238745796426E-07" />
    </inertial>
    <visual>
      <origin
        xyz="0 0 0"
        rpy="0 0 0" />
      <geometry>
        <mesh
          filename="package://robot_mobile/meshes/roue3_roulette4.STL" />
      </geometry>
      <material
        name="">
        <color
          rgba="0 0 0 1" />
      </material>
    </visual>
    <collision>
      <origin
        xyz="0 0 0"
        rpy="0 0 0" />
      <geometry>
        <mesh
          filename="package://robot_mobile/meshes/roue3_roulette4.STL" />
      </geometry>
    </collision>
  </link>
  <joint
    name="joint_roue3_roulette4"
    type="continuous">
    <origin
      xyz="0.0113936 -0.0429577287702939 0.0302190893859154"
      rpy="-2.70041934314413 -0.957751278810922 1.5707963267949" />
    <parent
      link="Roue3" />
    <child
      link="roue3_roulette4" />
    <axis
      xyz="-1 0 0" />
  </joint>
  <link
    name="roue3_roulette5">
    <inertial>
      <origin
        xyz="3.21436412209497E-10 -1.10094738881017E-10 1.13170341153879E-10"
        rpy="0 0 0" />
      <mass
        value="0.00837422821031397" />
      <inertia
        ixx="4.31411689938615E-07"
        ixy="-2.4869337979384E-16"
        ixz="2.55640525651538E-16"
        iyy="7.80238745577159E-07"
        iyz="-3.50236563013412E-16"
        izz="7.80238745557856E-07" />
    </inertial>
    <visual>
      <origin
        xyz="0 0 0"
        rpy="0 0 0" />
      <geometry>
        <mesh
          filename="package://robot_mobile/meshes/roue3_roulette5.STL" />
      </geometry>
      <material
        name="">
        <color
          rgba="0 0 0 1" />
      </material>
    </visual>
    <collision>
      <origin
        xyz="0 0 0"
        rpy="0 0 0" />
      <geometry>
        <mesh
          filename="package://robot_mobile/meshes/roue3_roulette5.STL" />
      </geometry>
    </collision>
  </link>
  <joint
    name="joint_roue3_roulette5"
    type="continuous">
    <origin
      xyz="0.0113936 -0.00900757829178397 0.0517438243439105"
      rpy="-3.04289816419467 -0.172353115413472 1.5707963267949" />
    <parent
      link="Roue3" />
    <child
      link="roue3_roulette5" />
    <axis
      xyz="-1 0 0" />
  </joint>
  <link
    name="roue3_roulette6">
    <inertial>
      <origin
        xyz="-2.39629316389767E-10 8.33673963196446E-11 3.97742117019817E-11"
        rpy="0 0 0" />
      <mass
        value="0.00837422821031395" />
      <inertia
        ixx="4.31411689477714E-07"
        ixy="-1.40390178823464E-16"
        ixz="-6.69795008810482E-17"
        iyy="7.80238745906722E-07"
        iyz="9.32096628029007E-17"
        izz="7.80238746057621E-07" />
    </inertial>
    <visual>
      <origin
        xyz="0 0 0"
        rpy="0 0 0" />
      <geometry>
        <mesh
          filename="package://robot_mobile/meshes/roue3_roulette6.STL" />
      </geometry>
      <material
        name="">
        <color
          rgba="0 0 0 1" />
      </material>
    </visual>
    <collision>
      <origin
        xyz="0 0 0"
        rpy="0 0 0" />
      <geometry>
        <mesh
          filename="package://robot_mobile/meshes/roue3_roulette6.STL" />
      </geometry>
    </collision>
  </link>
  <joint
    name="joint_roue3_roulette6"
    type="continuous">
    <origin
      xyz="0.0113936 0.0302190893859155 0.0429577287702938"
      rpy="2.82087628237721 0.613045047983978 1.5707963267949" />
    <parent
      link="Roue3" />
    <child
      link="roue3_roulette6" />
    <axis
      xyz="-1 0 0" />
  </joint>
  <link
    name="roue3_roulette7">
    <inertial>
      <origin
        xyz="8.21178819387924E-11 -1.33819899605925E-10 1.95230692723314E-10"
        rpy="0 0 0" />
      <mass
        value="0.00837422821031394" />
      <inertia
        ixx="4.3141169081268E-07"
        ixy="-7.72252444982607E-17"
        ixz="1.12664692729797E-16"
        iyy="7.80238747645963E-07"
        iyz="-7.34397824577041E-16"
        izz="7.80238747077935E-07" />
    </inertial>
    <visual>
      <origin
        xyz="0 0 0"
        rpy="0 0 0" />
      <geometry>
        <mesh
          filename="package://robot_mobile/meshes/roue3_roulette7.STL" />
      </geometry>
      <material
        name="">
        <color
          rgba="0 0 0 1" />
      </material>
    </visual>
    <collision>
      <origin
        xyz="0 0 0"
        rpy="0 0 0" />
      <geometry>
        <mesh
          filename="package://robot_mobile/meshes/roue3_roulette7.STL" />
      </geometry>
    </collision>
  </link>
  <joint
    name="joint_roue3_roulette7"
    type="continuous">
    <origin
      xyz="0.0113936 0.0517438243439104 0.00900757829178379"
      rpy="2.62443318581748 1.39844321138143 1.5707963267949" />
    <parent
      link="Roue3" />
    <child
      link="roue3_roulette7" />
    <axis
      xyz="-1 0 0" />
  </joint>
  <link
    name="roue3_roulette8">
    <inertial>
      <origin
        xyz="-2.96135366228967E-10 -7.19801440673962E-11 1.23261907625238E-10"
        rpy="0 0 0" />
      <mass
        value="0.00837422821031396" />
      <inertia
        ixx="4.31411689810609E-07"
        ixy="1.49798061272054E-16"
        ixz="-2.56519732615898E-16"
        iyy="7.8023874586384E-07"
        iyz="-2.49404397778611E-16"
        izz="7.80238745582391E-07" />
    </inertial>
    <visual>
      <origin
        xyz="0 0 0"
        rpy="0 0 0" />
      <geometry>
        <mesh
          filename="package://robot_mobile/meshes/roue3_roulette8.STL" />
      </geometry>
      <material
        name="">
        <color
          rgba="0 0 0 1" />
      </material>
    </visual>
    <collision>
      <origin
        xyz="0 0 0"
        rpy="0 0 0" />
      <geometry>
        <mesh
          filename="package://robot_mobile/meshes/roue3_roulette8.STL" />
      </geometry>
    </collision>
  </link>
  <joint
    name="joint_roue3_roulette8"
    type="continuous">
    <origin
      xyz="0.0113936 0.0429577287702936 -0.0302190893859157"
      rpy="-0.441173310445661 0.957751278810915 -1.5707963267949" />
    <parent
      link="Roue3" />
    <child
      link="roue3_roulette8" />
    <axis
      xyz="-1 0 0" />
  </joint>
  <link
    name="roue3_roulette9">
    <inertial>
      <origin
        xyz="-2.63648908260805E-10 8.35803648513433E-12 -2.56007159915583E-11"
        rpy="0 0 0" />
      <mass
        value="0.00837422821031392" />
      <inertia
        ixx="4.3141168925826E-07"
        ixy="-1.54866474817852E-17"
        ixz="4.7432839194616E-17"
        iyy="7.80238745710768E-07"
        iyz="-6.01472801889358E-18"
        izz="7.80238745694308E-07" />
    </inertial>
    <visual>
      <origin
        xyz="0 0 0"
        rpy="0 0 0" />
      <geometry>
        <mesh
          filename="package://robot_mobile/meshes/roue3_roulette9.STL" />
      </geometry>
      <material
        name="">
        <color
          rgba="0 0 0 1" />
      </material>
    </visual>
    <collision>
      <origin
        xyz="0 0 0"
        rpy="0 0 0" />
      <geometry>
        <mesh
          filename="package://robot_mobile/meshes/roue3_roulette9.STL" />
      </geometry>
    </collision>
  </link>
  <joint
    name="joint_roue3_roulette9"
    type="continuous">
    <origin
      xyz="0.0303936 0.0281590535998151 -0.0443353981010525"
      rpy="-2.84140706857503 -0.565855685760552 1.5707963267949" />
    <parent
      link="Roue3" />
    <child
      link="roue3_roulette9" />
    <axis
      xyz="-1 0 0" />
  </joint>
  <link
    name="roue3_roulette10">
    <inertial>
      <origin
        xyz="1.29132021048362E-10 -3.73365227623879E-12 2.93065571810303E-11"
        rpy="0 0 0" />
      <mass
        value="0.00837422821031395" />
      <inertia
        ixx="4.3141168926241E-07"
        ixy="-3.38794153747631E-18"
        ixz="2.65952198872293E-17"
        iyy="7.802387464591E-07"
        iyz="-3.07576853738248E-18"
        izz="7.80238746435348E-07" />
    </inertial>
    <visual>
      <origin
        xyz="0 0 0"
        rpy="0 0 0" />
      <geometry>
        <mesh
          filename="package://robot_mobile/meshes/roue3_roulette10.STL" />
      </geometry>
      <material
        name="">
        <color
          rgba="0 0 0 1" />
      </material>
    </visual>
    <collision>
      <origin
        xyz="0 0 0"
        rpy="0 0 0" />
      <geometry>
        <mesh
          filename="package://robot_mobile/meshes/roue3_roulette10.STL" />
      </geometry>
    </collision>
  </link>
  <joint
    name="joint_roue3_roulette10"
    type="continuous">
    <origin
      xyz="0.0303936 -0.0114384028916348 -0.0512613183960842"
      rpy="3.01651193104433 0.219542477636898 1.5707963267949" />
    <parent
      link="Roue3" />
    <child
      link="roue3_roulette10" />
    <axis
      xyz="-1 0 0" />
  </joint>
  <link
    name="roue3_roulette11">
    <inertial>
      <origin
        xyz="3.4053249803323E-10 9.51135836757544E-11 1.56343438195705E-10"
        rpy="0 0 0" />
      <mass
        value="0.00837422821031395" />
      <inertia
        ixx="4.31411690179278E-07"
        ixy="2.27615745759915E-16"
        ixz="3.74145861277233E-16"
        iyy="7.80238745726568E-07"
        iyz="4.18008019847808E-16"
        izz="7.80238745293766E-07" />
    </inertial>
    <visual>
      <origin
        xyz="0 0 0"
        rpy="0 0 0" />
      <geometry>
        <mesh
          filename="package://robot_mobile/meshes/roue3_roulette11.STL" />
      </geometry>
      <material
        name="">
        <color
          rgba="0 0 0 1" />
      </material>
    </visual>
    <collision>
      <origin
        xyz="0 0 0"
        rpy="0 0 0" />
      <geometry>
        <mesh
          filename="package://robot_mobile/meshes/roue3_roulette11.STL" />
      </geometry>
    </collision>
  </link>
  <joint
    name="joint_roue3_roulette11"
    type="continuous">
    <origin
      xyz="0.0303936 -0.0443353981010523 -0.0281590535998156"
      rpy="0.453483575384755 -1.00494064103433 -1.5707963267949" />
    <parent
      link="Roue3" />
    <child
      link="roue3_roulette11" />
    <axis
      xyz="-1 0 0" />
  </joint>
  <link
    name="roue3_roulette12">
    <inertial>
      <origin
        xyz="1.17369530761025E-10 1.54104201621763E-10 -2.15039763773461E-10"
        rpy="0 0 0" />
      <mass
        value="0.00837422821031399" />
      <inertia
        ixx="4.31411691205309E-07"
        ixy="1.27107732754838E-16"
        ixz="-1.77368771946944E-16"
        iyy="7.80238747775581E-07"
        iyz="-9.31527643572857E-16"
        izz="7.80238747143272E-07" />
    </inertial>
    <visual>
      <origin
        xyz="0 0 0"
        rpy="0 0 0" />
      <geometry>
        <mesh
          filename="package://robot_mobile/meshes/roue3_roulette12.STL" />
      </geometry>
      <material
        name="">
        <color
          rgba="0 0 0 1" />
      </material>
    </visual>
    <collision>
      <origin
        xyz="0 0 0"
        rpy="0 0 0" />
      <geometry>
        <mesh
          filename="package://robot_mobile/meshes/roue3_roulette12.STL" />
      </geometry>
    </collision>
  </link>
  <joint
    name="joint_roue3_roulette12"
    type="continuous">
    <origin
      xyz="0.0303936 -0.0512613183960843 0.0114384028916342"
      rpy="-0.513142891019452 1.35125384915801 -1.5707963267949" />
    <parent
      link="Roue3" />
    <child
      link="roue3_roulette12" />
    <axis
      xyz="1 0 0" />
  </joint>
  <link
    name="roue3_roulette13">
    <inertial>
      <origin
        xyz="8.58562942962493E-11 -4.18187706685558E-11 3.05875325068428E-11"
        rpy="0 0 0" />
      <mass
        value="0.00837422821031399" />
      <inertia
        ixx="4.31411689313336E-07"
        ixy="-2.52316821306071E-17"
        ixz="1.84553126734543E-17"
        iyy="7.80238746592023E-07"
        iyz="-3.59566280202839E-17"
        izz="7.80238746614883E-07" />
    </inertial>
    <visual>
      <origin
        xyz="0 0 0"
        rpy="0 0 0" />
      <geometry>
        <mesh
          filename="package://robot_mobile/meshes/roue3_roulette13.STL" />
      </geometry>
      <material
        name="">
        <color
          rgba="0 0 0 1" />
      </material>
    </visual>
    <collision>
      <origin
        xyz="0 0 0"
        rpy="0 0 0" />
      <geometry>
        <mesh
          filename="package://robot_mobile/meshes/roue3_roulette13.STL" />
      </geometry>
    </collision>
  </link>
  <joint
    name="joint_roue3_roulette13"
    type="continuous">
    <origin
      xyz="0.0303936 -0.0281590535998155 0.0443353981010523"
      rpy="-2.84140706857503 -0.565855685760559 1.5707963267949" />
    <parent
      link="Roue3" />
    <child
      link="roue3_roulette13" />
    <axis
      xyz="-1 0 0" />
  </joint>
  <link
    name="roue3_roulette14">
    <inertial>
      <origin
        xyz="-3.58946983247677E-10 1.35911115695109E-10 1.09613380872009E-10"
        rpy="0 0 0" />
      <mass
        value="0.00837422821031395" />
      <inertia
        ixx="4.31411690094865E-07"
        ixy="-3.42836890630824E-16"
        ixz="-2.76500578097137E-16"
        iyy="7.80238745196173E-07"
        iyz="4.18775054503662E-16"
        izz="7.80238745377672E-07" />
    </inertial>
    <visual>
      <origin
        xyz="0 0 0"
        rpy="0 0 0" />
      <geometry>
        <mesh
          filename="package://robot_mobile/meshes/roue3_roulette14.STL" />
      </geometry>
      <material
        name="">
        <color
          rgba="0 0 0 1" />
      </material>
    </visual>
    <collision>
      <origin
        xyz="0 0 0"
        rpy="0 0 0" />
      <geometry>
        <mesh
          filename="package://robot_mobile/meshes/roue3_roulette14.STL" />
      </geometry>
    </collision>
  </link>
  <joint
    name="joint_roue3_roulette14"
    type="continuous">
    <origin
      xyz="0.0303936 0.0114384028916344 0.0512613183960843"
      rpy="3.01651193104433 0.219542477636891 1.5707963267949" />
    <parent
      link="Roue3" />
    <child
      link="roue3_roulette14" />
    <axis
      xyz="-1 0 0" />
  </joint>
  <link
    name="roue3_roulette15">
    <inertial>
      <origin
        xyz="-3.16079572237893E-10 -1.04638436804194E-10 -1.85352261317107E-10"
        rpy="0 0 0" />
      <mass
        value="0.00837422821031397" />
      <inertia
        ixx="4.31411690511395E-07"
        ixy="2.32428752402336E-16"
        ixz="4.11714697398607E-16"
        iyy="7.80238746230871E-07"
        iyz="5.45194556445243E-16"
        izz="7.80238745572918E-07" />
    </inertial>
    <visual>
      <origin
        xyz="0 0 0"
        rpy="0 0 0" />
      <geometry>
        <mesh
          filename="package://robot_mobile/meshes/roue3_roulette15.STL" />
      </geometry>
      <material
        name="">
        <color
          rgba="0 0 0 1" />
      </material>
    </visual>
    <collision>
      <origin
        xyz="0 0 0"
        rpy="0 0 0" />
      <geometry>
        <mesh
          filename="package://robot_mobile/meshes/roue3_roulette15.STL" />
      </geometry>
    </collision>
  </link>
  <joint
    name="joint_roue3_roulette15"
    type="continuous">
    <origin
      xyz="0.0303936 0.0443353981010524 0.0281590535998153"
      rpy="0.453483575384757 -1.00494064103434 -1.5707963267949" />
    <parent
      link="Roue3" />
    <child
      link="roue3_roulette15" />
    <axis
      xyz="-1 0 0" />
  </joint>
  <link
    name="roue3_roulette16">
    <inertial>
      <origin
        xyz="1.19836252032712E-10 -1.58140833761422E-10 -2.19109647092708E-10"
        rpy="0 0 0" />
      <mass
        value="0.00837422821031395" />
      <inertia
        ixx="4.31411691290407E-07"
        ixy="-1.33178977061904E-16"
        ixz="-1.84523520286059E-16"
        iyy="7.80238747817023E-07"
        iyz="9.74020121743581E-16"
        izz="7.80238747170476E-07" />
    </inertial>
    <visual>
      <origin
        xyz="0 0 0"
        rpy="0 0 0" />
      <geometry>
        <mesh
          filename="package://robot_mobile/meshes/roue3_roulette16.STL" />
      </geometry>
      <material
        name="">
        <color
          rgba="0 0 0 1" />
      </material>
    </visual>
    <collision>
      <origin
        xyz="0 0 0"
        rpy="0 0 0" />
      <geometry>
        <mesh
          filename="package://robot_mobile/meshes/roue3_roulette16.STL" />
      </geometry>
    </collision>
  </link>
  <joint
    name="joint_roue3_roulette16"
    type="continuous">
    <origin
      xyz="0.0303936 0.0512613183960842 -0.0114384028916346"
      rpy="-2.62844976257034 -1.351253849158 1.5707963267949" />
    <parent
      link="Roue3" />
    <child
      link="roue3_roulette16" />
    <axis
      xyz="-1 0 0" />
  </joint>
</robot>
